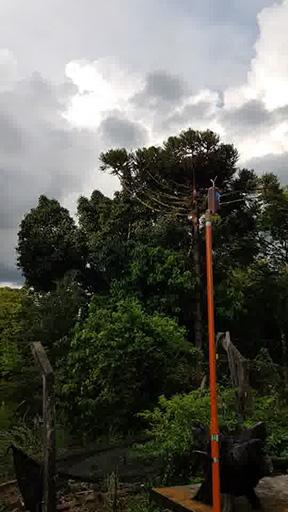Detector_Tensao_Contato: (206, 176, 220, 215)
Vara_Manobra: (203, 216, 223, 512)
